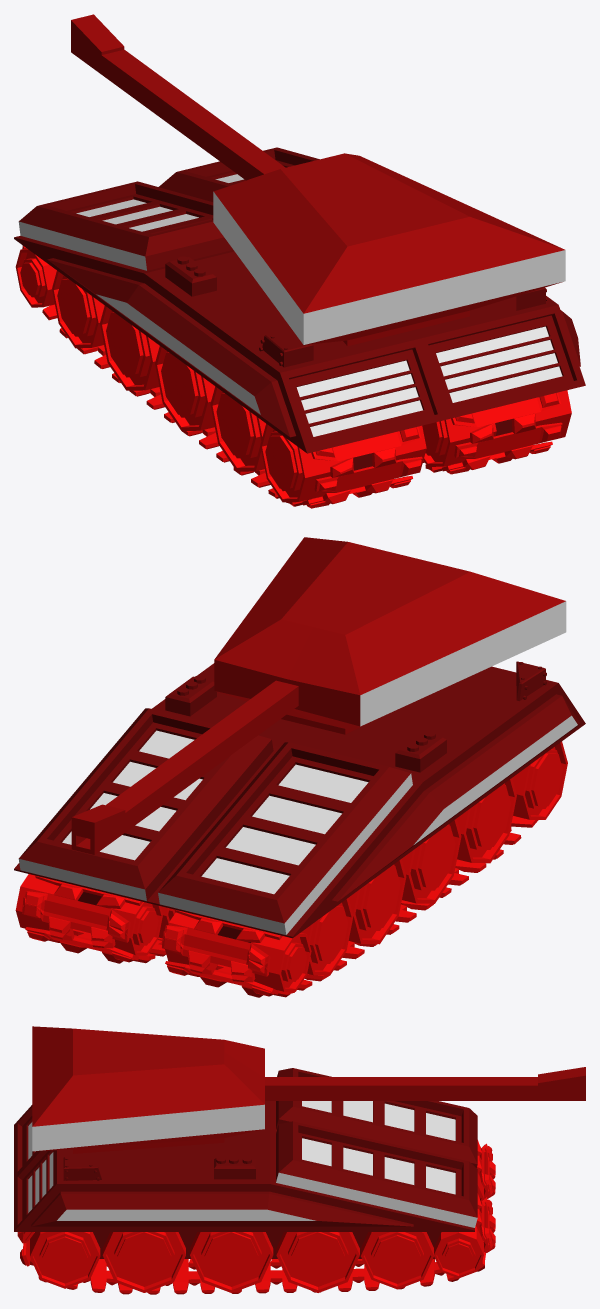
File: EnemyTank.fbx
3 views of the same model, one above another, from view 1: azimuth 30°, elevation 25°; view 2: azimuth 150°, elevation 25°; view 3: azimuth 270°, elevation 25° (orthographic). The views are drawn at different scales.
Parts seen in each view (by area): view 1: 砲台, 砲台.001; view 2: 砲台, 砲台.001; view 3: 砲台, 砲台.001.
Boxes of the visible parts, x1,y1,x2,y2 form: 砲台: (14,147,585,508); 砲台.001: (71,14,565,346); 砲台: (14,661,585,997); 砲台.001: (71,537,566,854); 砲台: (14,1068,495,1294); 砲台.001: (32,1026,585,1153).
Size of the model in its own units: 2474 by 1891 by 4917.
